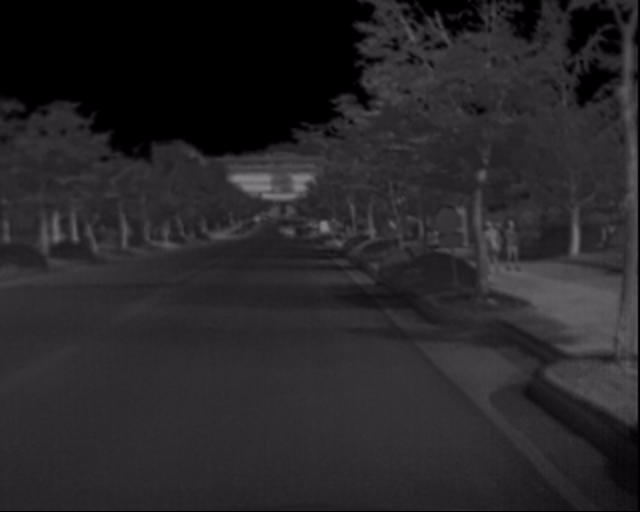person: (500, 215, 524, 274), (482, 215, 502, 271)
